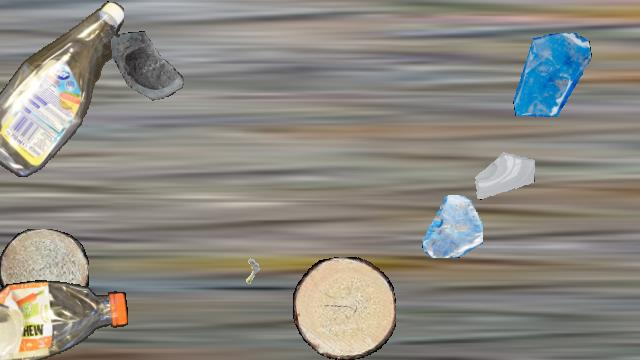glass: (510, 33, 594, 117), (111, 31, 193, 113), (420, 195, 482, 257), (474, 140, 534, 200)
metal: (230, 255, 270, 295)
plastic: (0, 1, 124, 177), (0, 279, 128, 359)
wood: (293, 257, 395, 359), (0, 229, 89, 313)
